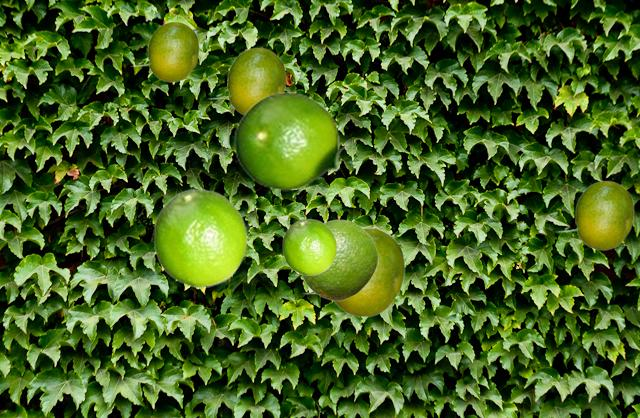calamansi: (233, 92, 351, 190), (153, 188, 247, 286), (302, 227, 404, 316), (301, 219, 377, 300), (555, 180, 633, 249), (207, 47, 285, 114), (130, 21, 198, 81), (282, 218, 336, 274)
